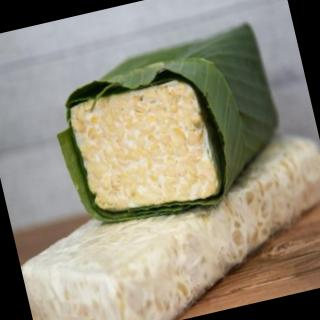Tempe: (50, 20, 294, 227), (14, 182, 265, 320)
